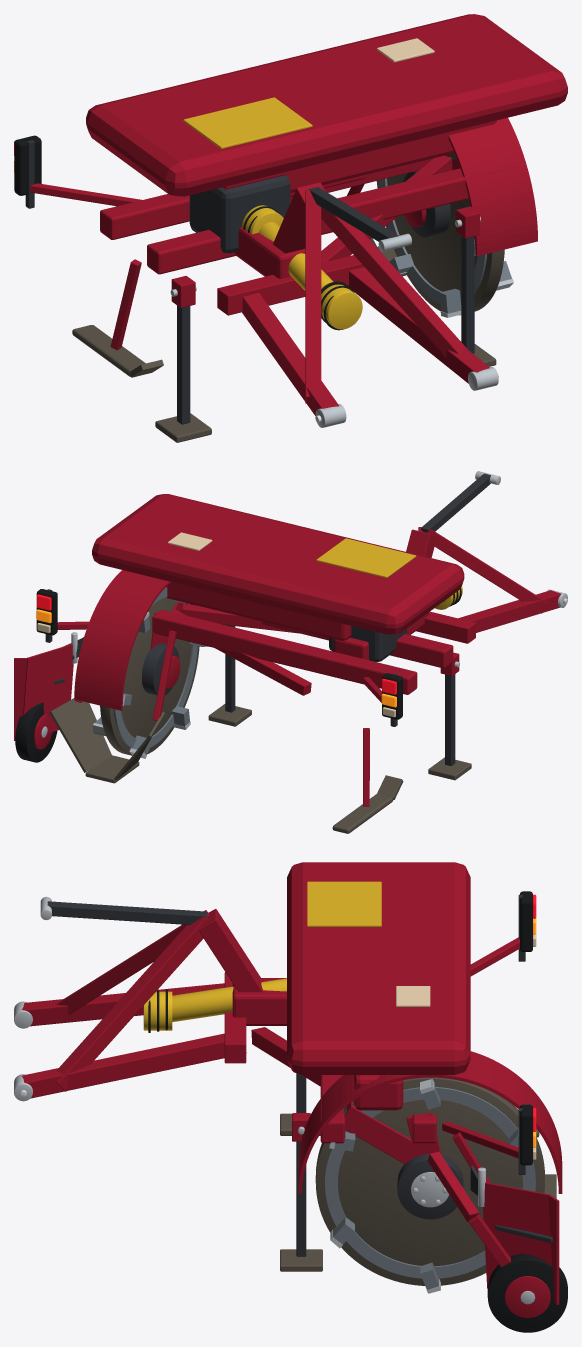
File: ditcher_v2.glb
3 views of the same model, one above another, from view 1: azimuth 30°, elevation 25°; view 2: azimuth 150°, elevation 25°; view 3: azimuth 270°, elevation 25° (orthographic). The views are drawn at different scales.
Parts seen in each view (by area): view 1: DitchFrame, DiggerDisc; view 2: DitchFrame, DiggerDisc, DeflectorPlate; view 3: DitchFrame, DiggerDisc, DeflectorPlate.
Boxes of the visible parts, x1,y1,x2,y2 form: DitchFrame: (14, 14, 567, 442); DiggerDisc: (376, 153, 513, 317); DitchFrame: (15, 471, 567, 833); DiggerDisc: (92, 587, 207, 758); DeflectorPlate: (14, 632, 83, 740); DitchFrame: (14, 862, 567, 1332); DiggerDisc: (315, 1077, 544, 1293); DeflectorPlate: (470, 1166, 559, 1304).
Size of the model in its own units: 1.91 by 1.03 by 1.93.
